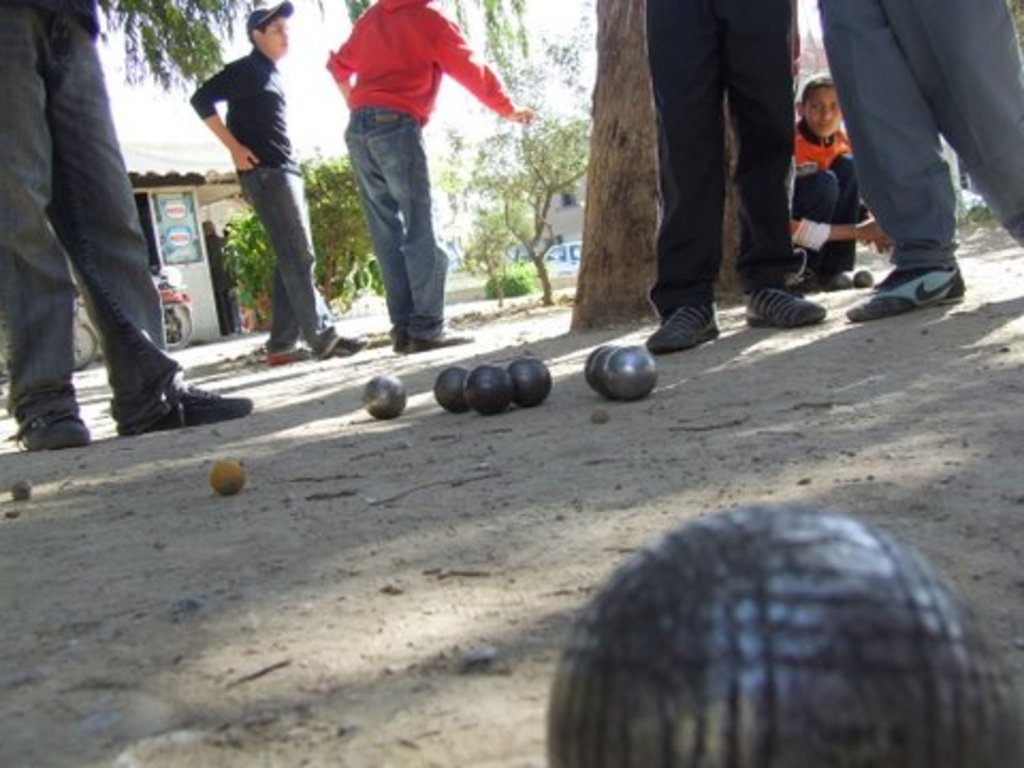Person: (0, 0, 251, 453), (817, 0, 1024, 321), (642, 0, 825, 350), (792, 77, 896, 287)
